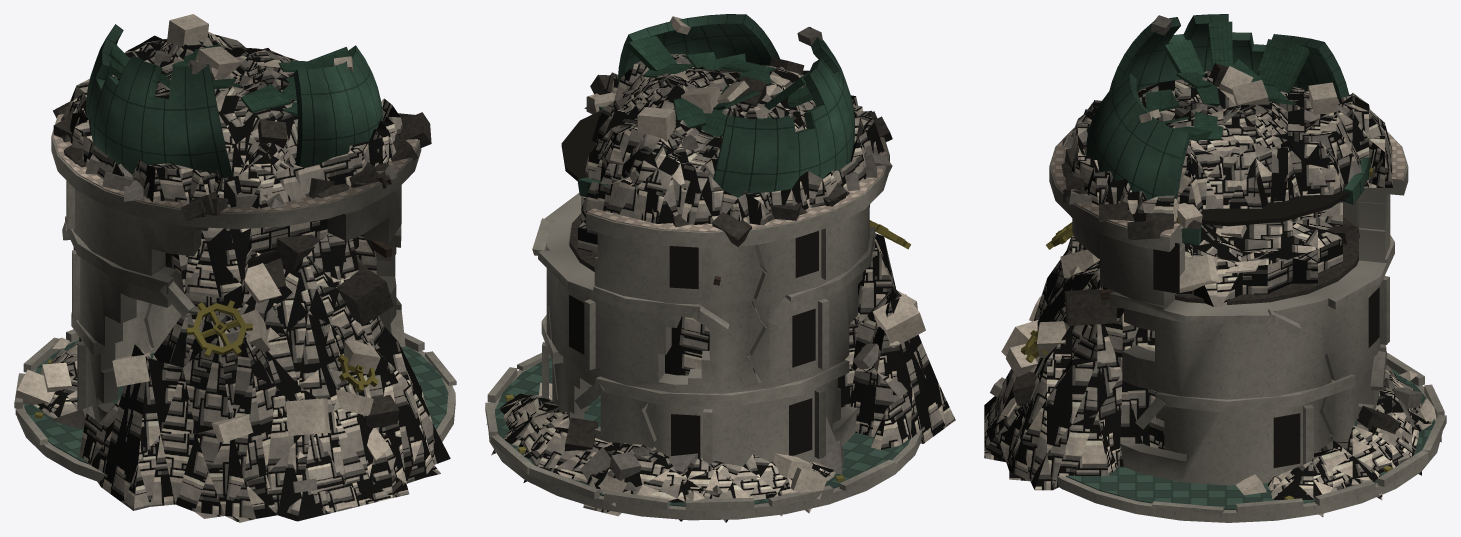
The model's file is CreBuild06b.glb.
The picture shows the model from 3 angles, left to right: view 1: azimuth 30°, elevation 25°; view 2: azimuth 150°, elevation 25°; view 3: azimuth 270°, elevation 25°; orthographic projection. The views are drawn at different scales.
Visible parts, largest first — view 1: marble; view 2: marble; view 3: marble.
Part boxes in pixels (<box>): marble: <box>14,14,456,522</box>; marble: <box>485,14,955,522</box>; marble: <box>984,14,1446,522</box>.
Bounding box in the file's own units: 12.07 × 12.03 × 12.88.
Materials: 13 (11 with a texture image).
